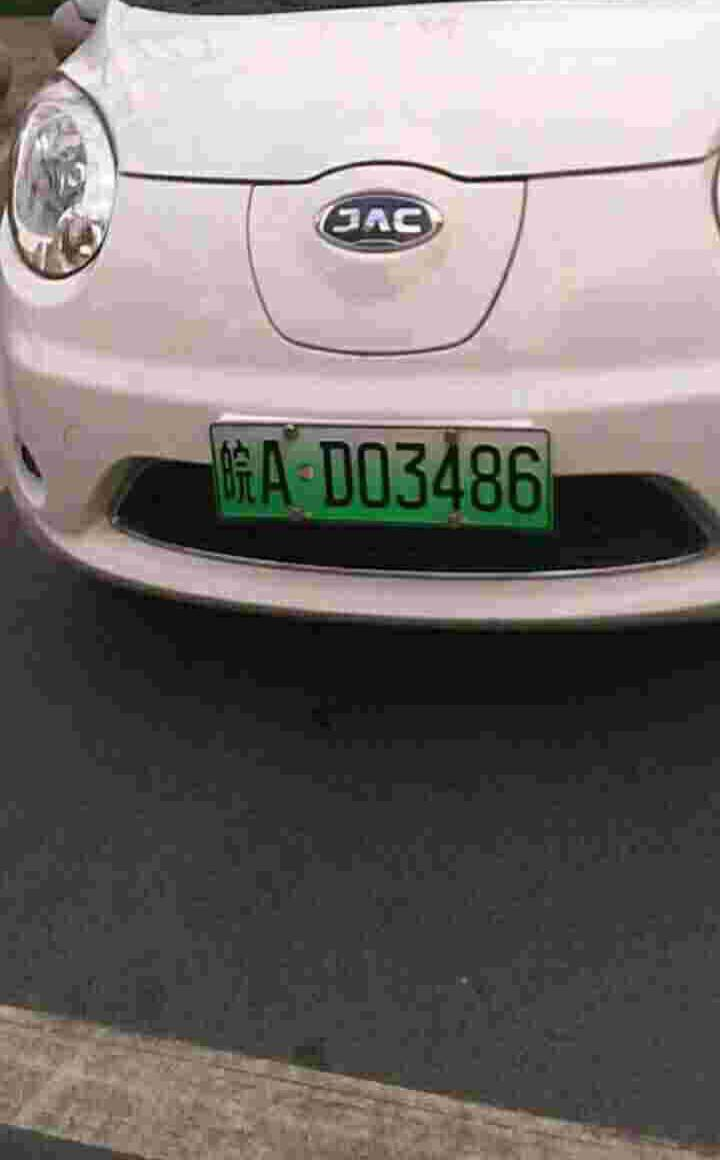car_id: (208, 422, 550, 524)
